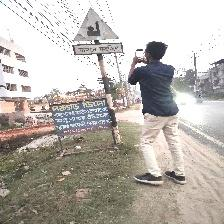Mosque in front: (72, 7, 122, 56)
